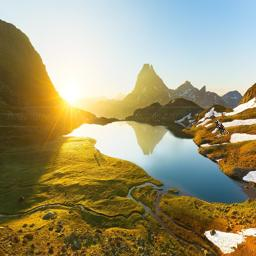Sparrow: (215, 120, 230, 139)
